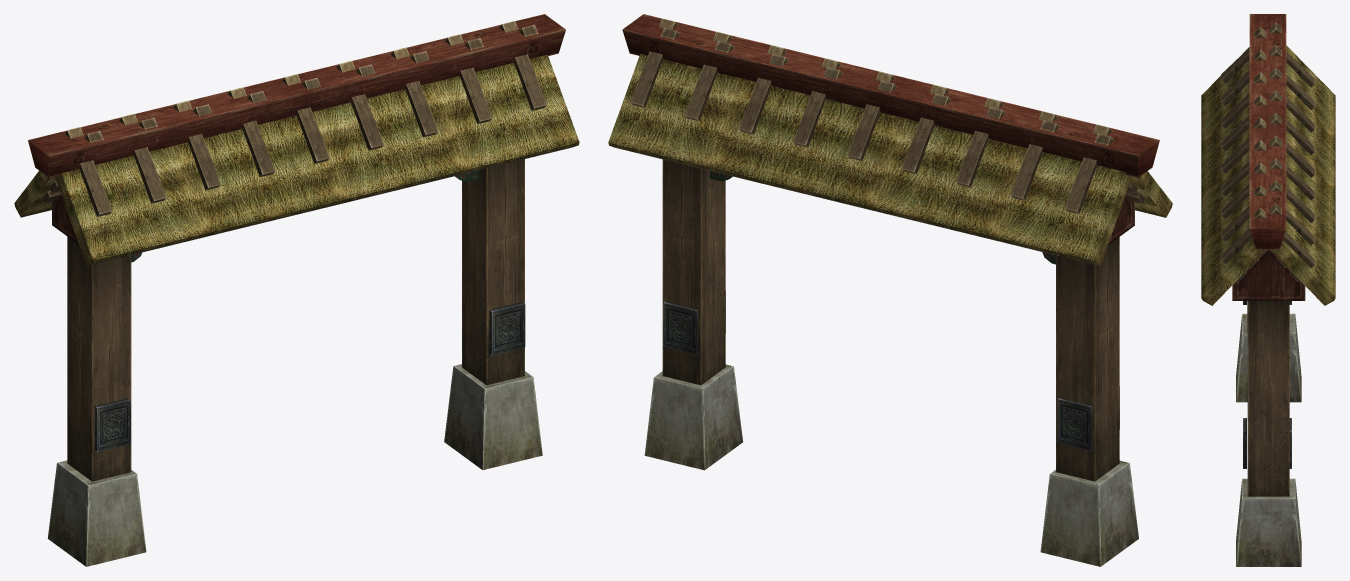
The model's file is fotrms_gate.fbx.
The picture shows the model from 3 angles, left to right: view 1: azimuth 30°, elevation 25°; view 2: azimuth 150°, elevation 25°; view 3: azimuth 270°, elevation 25°; orthographic projection. The views are drawn at different scales.
Visible parts, largest first — view 1: Object05, Line03; view 2: Object05, Line03; view 3: Object05, Line03.
Part boxes in pixels (left/top/right/bottom): Object05: left=14, top=14, right=579, bottom=265; Line03: left=47, top=159, right=542, bottom=566; Object05: left=608, top=14, right=1172, bottom=265; Line03: left=644, top=159, right=1138, bottom=566; Object05: left=1201, top=14, right=1335, bottom=305; Line03: left=1236, top=301, right=1301, bottom=566.
Size of the model in its own units: 16.1 by 12.46 by 4.27.
